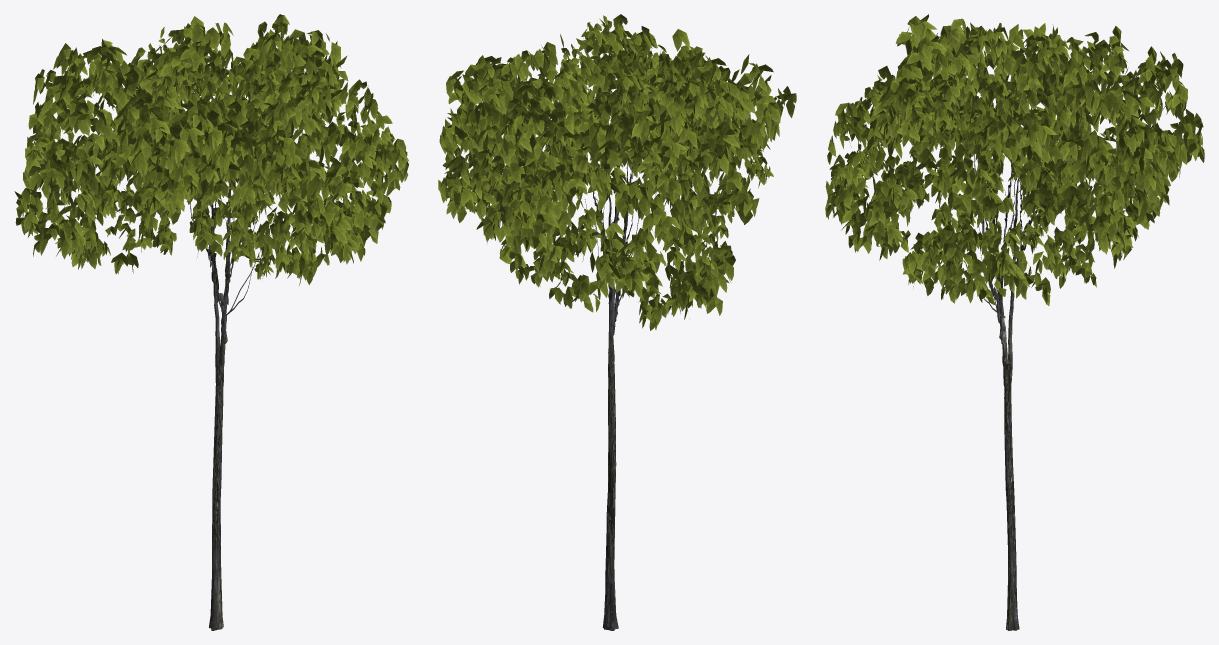
Rendered from tree_16.glb.
3 views of the same model, side by side, from view 1: azimuth 30°, elevation 25°; view 2: azimuth 150°, elevation 25°; view 3: azimuth 270°, elevation 25° (orthographic).
Visible parts, largest first — view 1: MainBuilding; view 2: MainBuilding; view 3: MainBuilding.
Boxes of the visible parts, <box> form: MainBuilding: <box>14,14,409,630</box>; MainBuilding: <box>438,14,796,630</box>; MainBuilding: <box>825,14,1204,630</box>.
Size of the model in its own units: 0.5886 by 1.02 by 0.6006.
Materials: 1 (1 with a texture image).
